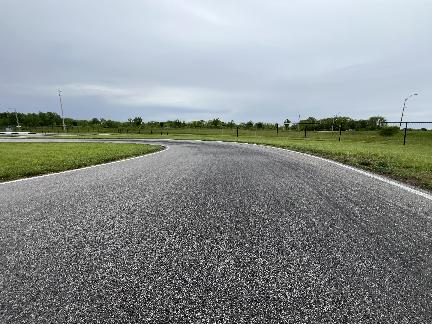Grass: (101, 135, 431, 188), (0, 143, 163, 180)
Lane: (0, 140, 431, 323)
